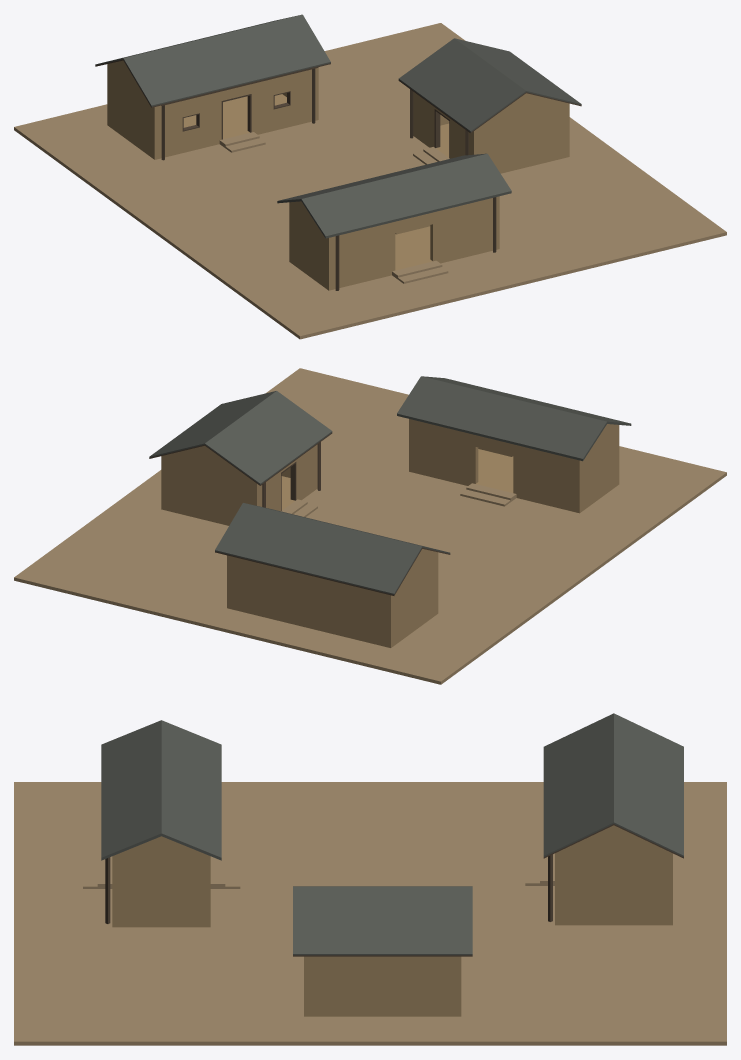
The model's file is z09-civic-A-LOD2.glb.
3 renders of one model, top to bottom at view 1: azimuth 30°, elevation 25°; view 2: azimuth 150°, elevation 25°; view 3: azimuth 270°, elevation 25°, orthographic. The views are drawn at different scales.
Visible parts, largest first — view 1: Z09_batched_Z09_NEW_court_and_steps, Z09_batched_LY_P01_earth__FLAT, Z09_batched_LY_P01_tile__FLAT, Z09_batched_LY_P01_timber__FLAT; view 2: Z09_batched_Z09_NEW_court_and_steps, Z09_batched_LY_P01_earth__FLAT, Z09_batched_LY_P01_tile__FLAT, Z09_batched_LY_P01_timber__FLAT; view 3: Z09_batched_Z09_NEW_court_and_steps, Z09_batched_LY_P01_tile__FLAT, Z09_batched_LY_P01_earth__FLAT, Z09_batched_LY_P01_timber__FLAT.
Boxes of the visible parts, <box> form: Z09_batched_Z09_NEW_court_and_steps: <box>14,23,726,339</box>; Z09_batched_LY_P01_earth__FLAT: <box>107,60,569,290</box>; Z09_batched_LY_P01_tile__FLAT: <box>95,14,581,238</box>; Z09_batched_LY_P01_timber__FLAT: <box>95,59,581,290</box>; Z09_batched_Z09_NEW_court_and_steps: <box>14,368,726,684</box>; Z09_batched_LY_P01_earth__FLAT: <box>161,419,619,647</box>; Z09_batched_LY_P01_tile__FLAT: <box>149,376,631,594</box>; Z09_batched_LY_P01_timber__FLAT: <box>149,433,450,595</box>; Z09_batched_Z09_NEW_court_and_steps: <box>14,782,726,1045</box>; Z09_batched_LY_P01_tile__FLAT: <box>101,713,683,955</box>; Z09_batched_LY_P01_earth__FLAT: <box>112,825,672,1016</box>; Z09_batched_LY_P01_timber__FLAT: <box>105,824,683,956</box>.
Bounding box in the file's own units: 25 × 5.01 × 29.
